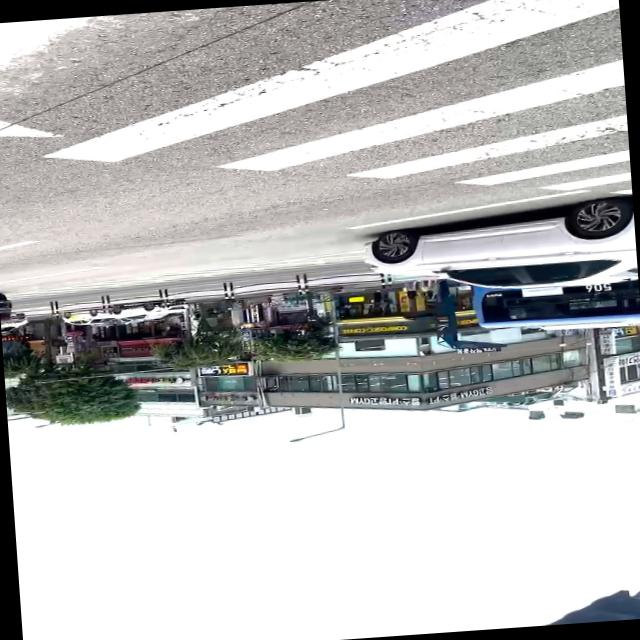building: (250, 270, 598, 424)
car: (359, 194, 638, 301)
